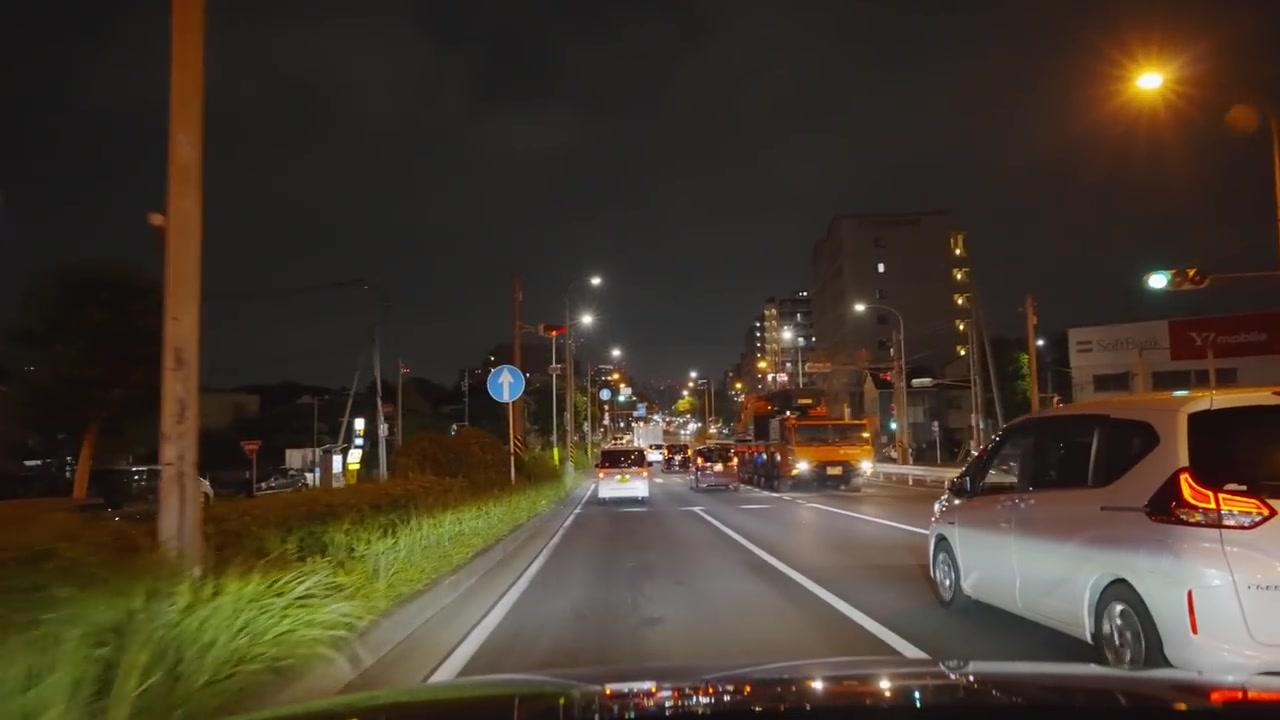bus: (736, 404, 876, 491)
car: (925, 388, 1278, 681), (98, 466, 215, 516), (595, 441, 651, 506), (689, 442, 740, 492), (255, 466, 310, 495)
truck: (734, 402, 875, 491), (595, 442, 651, 506)
